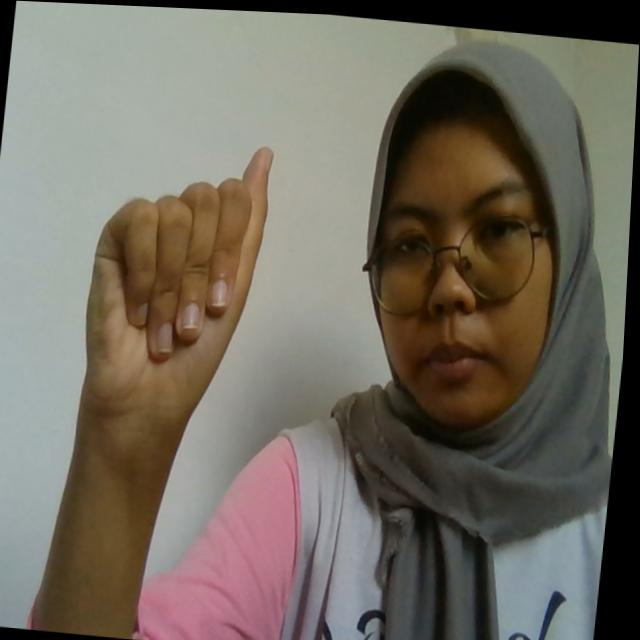A: (81, 129, 280, 415)
